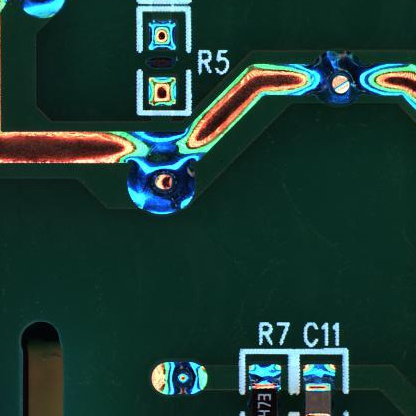spot: (126, 155, 196, 214), (312, 47, 365, 107), (149, 359, 207, 395)
